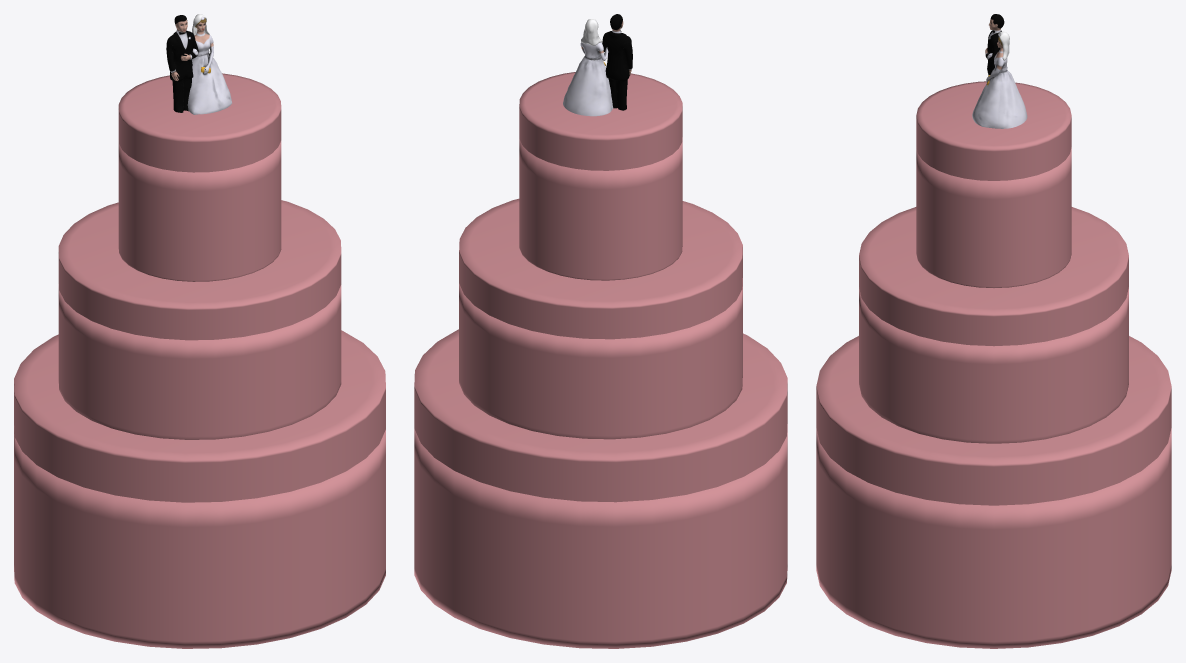
Rendered from 3-tier-blush-none-bridegroom.glb.
3 views of the same model, side by side, from view 1: azimuth 30°, elevation 25°; view 2: azimuth 150°, elevation 25°; view 3: azimuth 270°, elevation 25° (orthographic). The views are drawn at different scales.
Parts seen in each view (by area): view 1: Cylinder.022, Cylinder.014, Cylinder.021, 13501_Cake_Topper_Bride_Groom_v1_L1.002; view 2: Cylinder.022, Cylinder.014, Cylinder.021, 13501_Cake_Topper_Bride_Groom_v1_L1.002; view 3: Cylinder.022, Cylinder.014, Cylinder.021, 13501_Cake_Topper_Bride_Groom_v1_L1.002.
Boxes of the visible parts, bbox=[...] form: Cylinder.022: bbox=[14, 330, 385, 648]; Cylinder.014: bbox=[58, 200, 341, 439]; Cylinder.021: bbox=[118, 73, 281, 281]; 13501_Cake_Topper_Bride_Groom_v1_L1.002: bbox=[166, 14, 232, 114]; Cylinder.022: bbox=[414, 329, 787, 648]; Cylinder.014: bbox=[459, 198, 742, 439]; Cylinder.021: bbox=[519, 72, 682, 280]; 13501_Cake_Topper_Bride_Groom_v1_L1.002: bbox=[563, 14, 632, 116]; Cylinder.022: bbox=[816, 336, 1171, 648]; Cylinder.014: bbox=[859, 207, 1128, 443]; Cylinder.021: bbox=[916, 81, 1071, 287]; 13501_Cake_Topper_Bride_Groom_v1_L1.002: bbox=[972, 14, 1027, 128].
Bounding box in the file's own units: 4.22 × 6.91 × 4.06.
2 materials, 1 textured.
